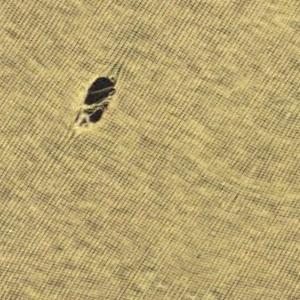hole: (77, 71, 117, 133)
